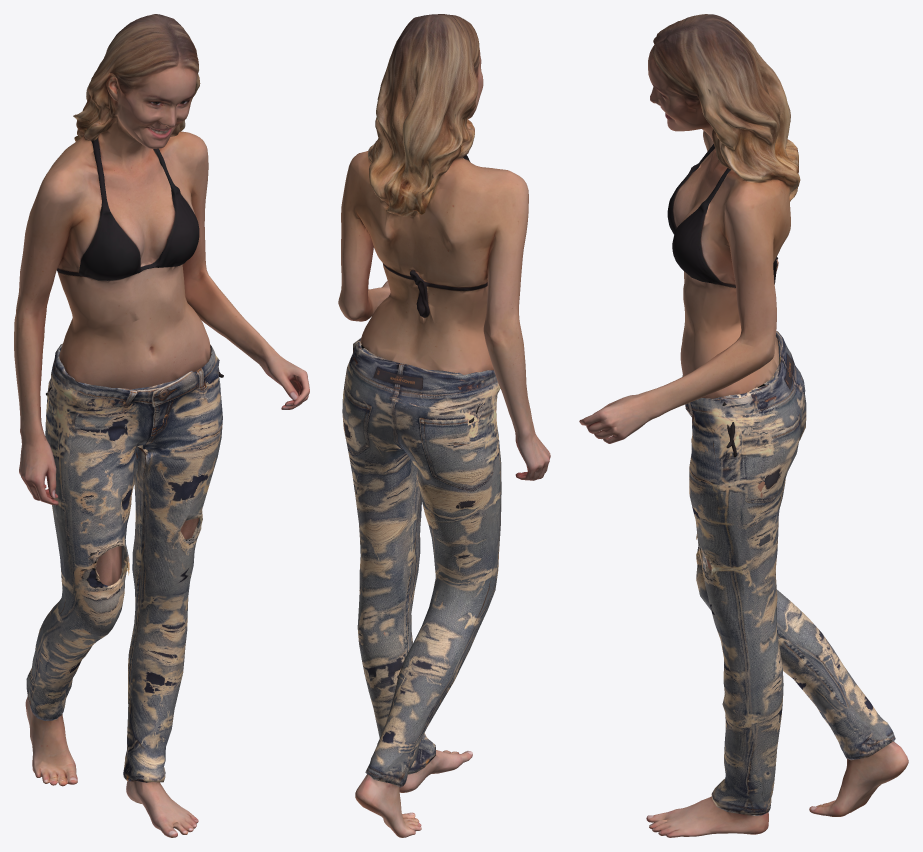
File: claudia.glb
The picture shows the model from 3 angles, left to right: view 1: azimuth 30°, elevation 25°; view 2: azimuth 150°, elevation 25°; view 3: azimuth 270°, elevation 25°; orthographic projection. The views are drawn at different scales.
Visible parts, largest first — view 1: rp_claudia_posed_022_30k, Undercover_Blue_Jeans; view 2: rp_claudia_posed_022_30k, Undercover_Blue_Jeans; view 3: rp_claudia_posed_022_30k, Undercover_Blue_Jeans.
Boxes of the visible parts, <box> form: rp_claudia_posed_022_30k: <box>14,14,309,837</box>; Undercover_Blue_Jeans: <box>26,343,222,782</box>; rp_claudia_posed_022_30k: <box>338,14,550,837</box>; Undercover_Blue_Jeans: <box>342,338,501,787</box>; rp_claudia_posed_022_30k: <box>579,14,908,837</box>; Undercover_Blue_Jeans: <box>682,331,895,815</box>.
Size of the model in its own units: 0.4976 by 1.65 by 0.6073.
2 materials, 2 textured.
